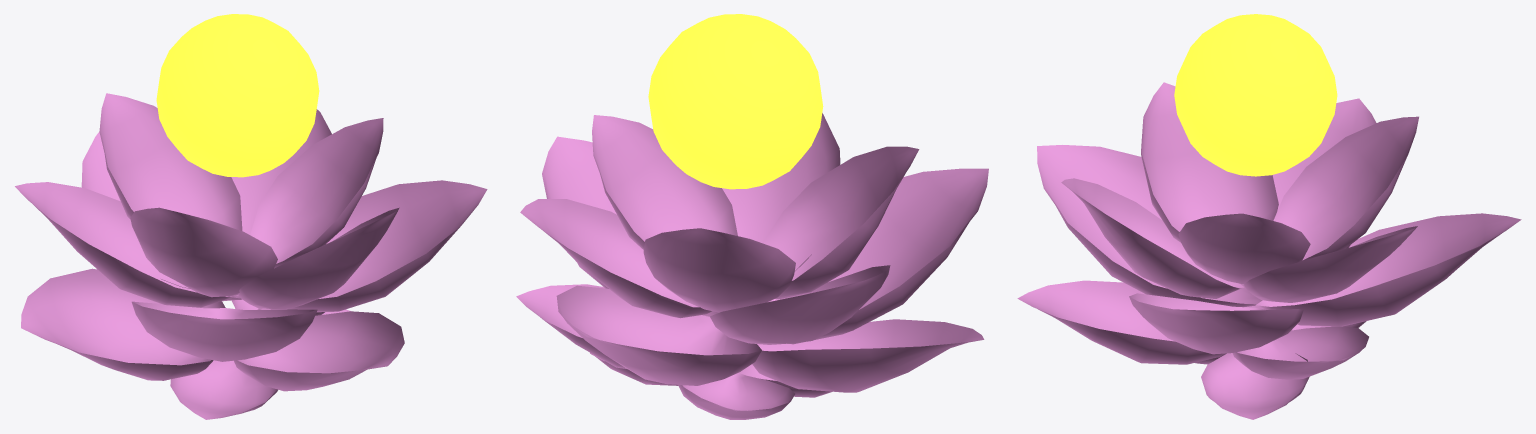
The model's file is mage.fbx.
3 renders of one model, left to right at view 1: azimuth 30°, elevation 25°; view 2: azimuth 150°, elevation 25°; view 3: azimuth 270°, elevation 25°, orthographic. The views are drawn at different scales.
Parts seen in each view (by area): view 1: Vert.010; view 2: Vert.010; view 3: Vert.010.
Boxes of the visible parts, box(x1,y1,x2,y2) form: Vert.010: box(15, 14, 487, 419); Vert.010: box(516, 14, 988, 419); Vert.010: box(1017, 14, 1521, 419).
Bounding box in the file's own units: 419 × 329 × 427.
